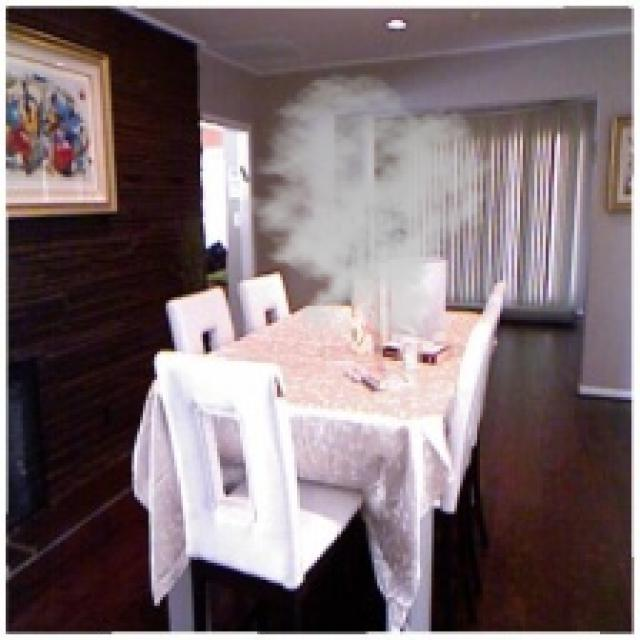smoke: (223, 71, 497, 343)
